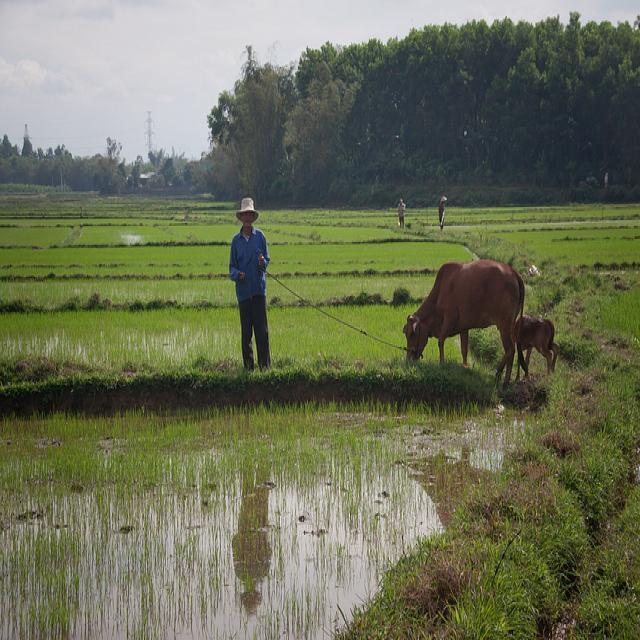cow: (401, 257, 529, 388), (513, 311, 559, 379)
